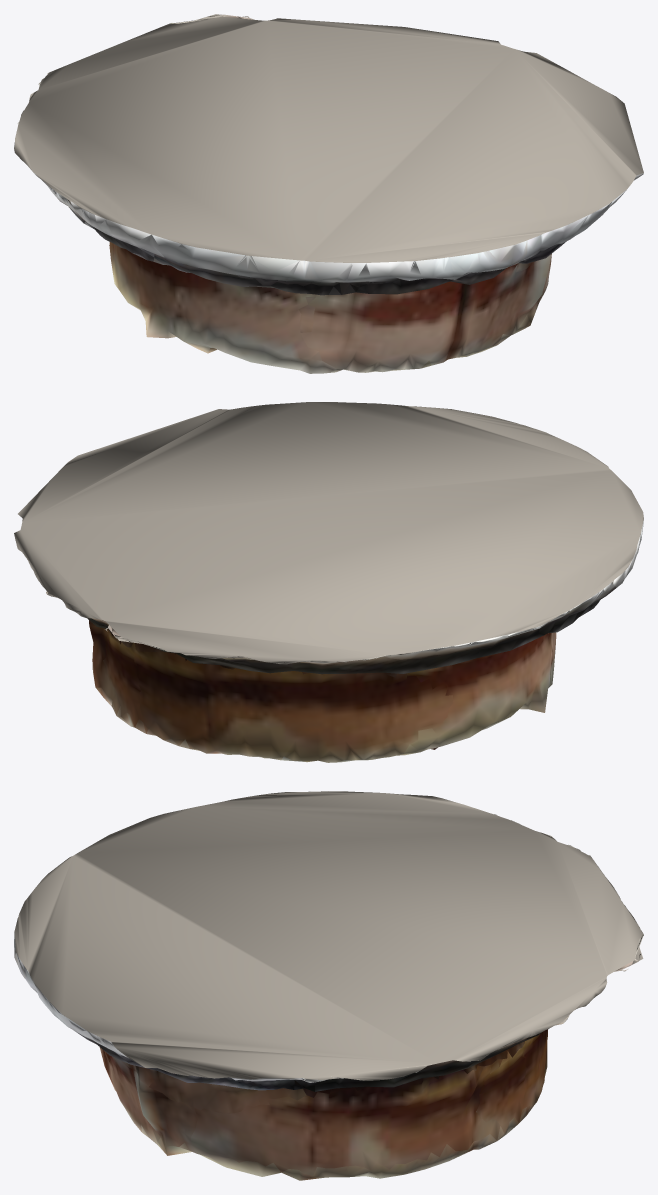
Rendered from cake_3874.obj.
3 renders of one model, top to bottom at view 1: azimuth 30°, elevation 25°; view 2: azimuth 150°, elevation 25°; view 3: azimuth 270°, elevation 25°, orthographic. The views are drawn at different scales.
Bounding box in the file's own units: 0.1761 × 0.0562 × 0.1767.
Materials: 1 (1 with a texture image).
